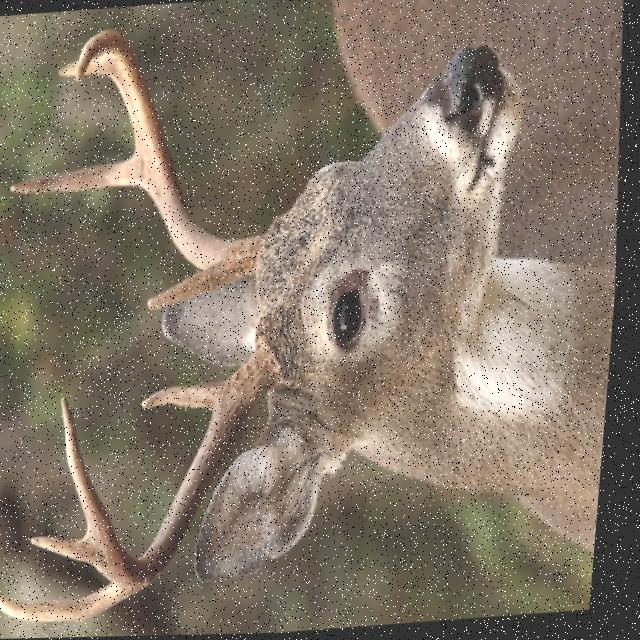L-F: (65, 343, 288, 598)
L-G1: (142, 378, 237, 414)
L-G2: (0, 583, 140, 625)
L-G3: (35, 532, 108, 572)
R-F: (75, 29, 272, 288)
R-G1: (147, 271, 224, 316)
R-G2: (10, 152, 149, 198)
